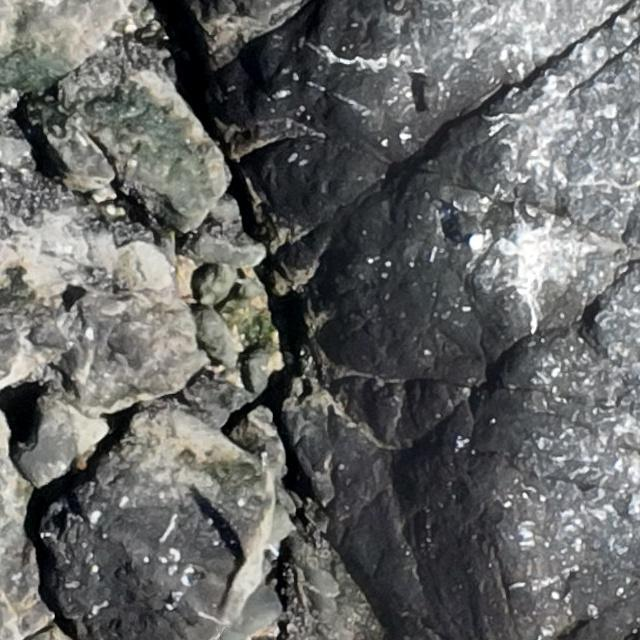umineko: (455, 211, 485, 250)
